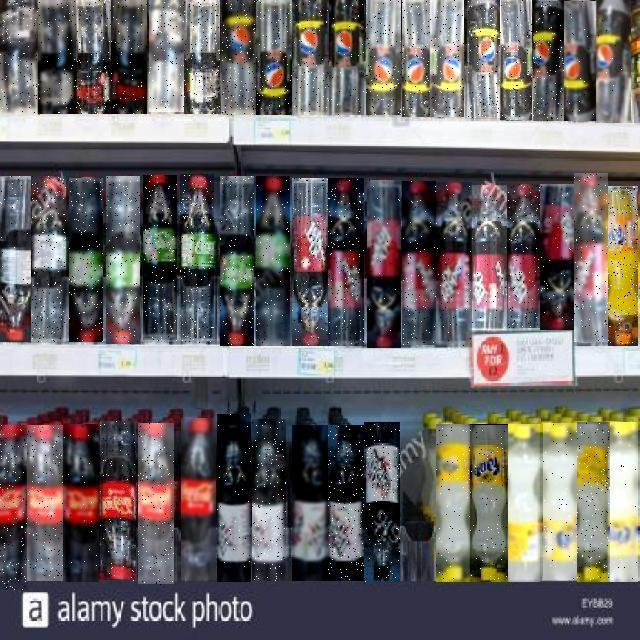Drinks: (328, 179, 364, 347), (292, 179, 328, 347), (470, 424, 508, 582), (99, 422, 136, 584), (436, 182, 472, 347), (63, 424, 100, 582), (138, 424, 174, 586), (220, 176, 254, 346), (181, 174, 215, 344), (256, 176, 290, 346), (27, 425, 64, 581), (365, 423, 401, 583), (574, 173, 608, 342), (106, 176, 140, 344), (367, 180, 401, 348), (217, 415, 251, 583), (436, 424, 472, 582), (181, 418, 216, 580), (143, 176, 177, 342), (32, 176, 66, 342), (292, 425, 328, 581), (328, 425, 364, 581), (69, 178, 103, 342), (402, 181, 436, 345), (252, 419, 286, 581), (578, 423, 612, 583), (508, 424, 542, 582), (543, 423, 577, 580), (471, 185, 507, 330), (0, 176, 31, 342), (541, 184, 575, 330), (608, 186, 638, 346), (0, 425, 28, 590), (508, 184, 540, 328), (0, 0, 40, 115), (612, 423, 640, 583), (595, 0, 631, 123), (38, 0, 76, 114), (256, 0, 292, 115), (293, 0, 329, 115), (76, 0, 112, 114), (111, 0, 147, 114), (185, 0, 221, 114), (222, 0, 257, 115), (329, 0, 364, 115), (366, 0, 401, 115), (467, 0, 501, 118), (431, 0, 465, 117), (149, 0, 184, 112), (564, 1, 596, 121), (500, 0, 532, 120), (533, 1, 564, 121), (402, 0, 432, 117)
